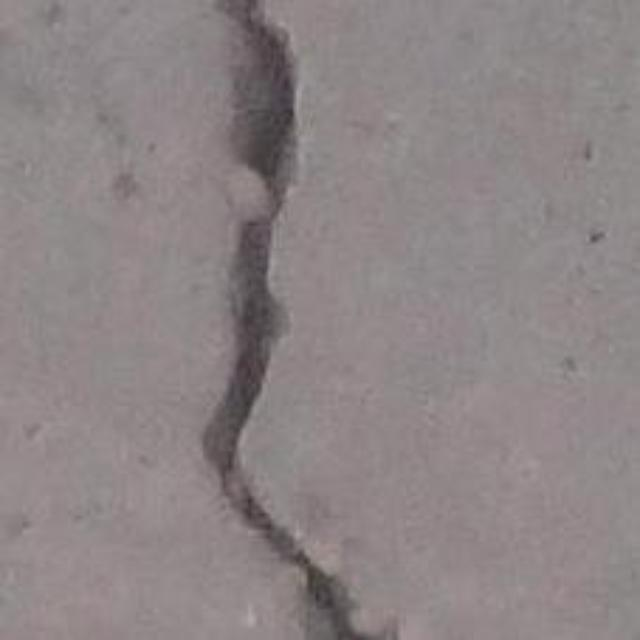crack: (203, 0, 380, 639)
